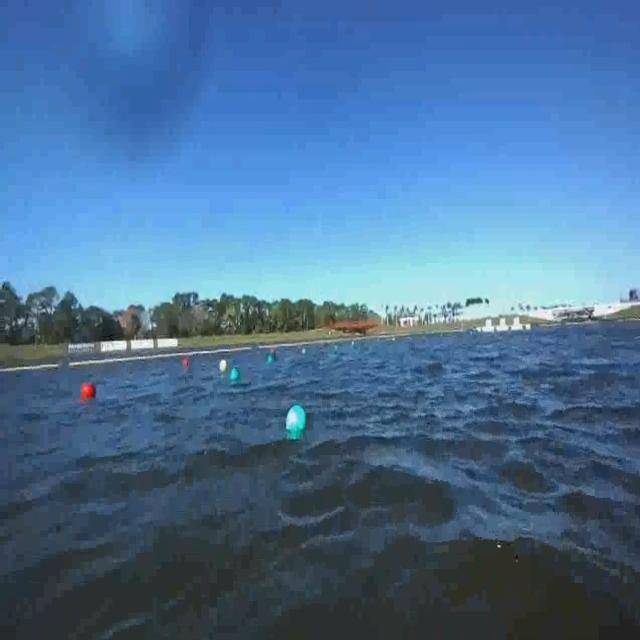green-buoy: (286, 406, 306, 437), (228, 366, 239, 382)
red-buoy: (80, 380, 96, 400), (185, 358, 192, 370)
